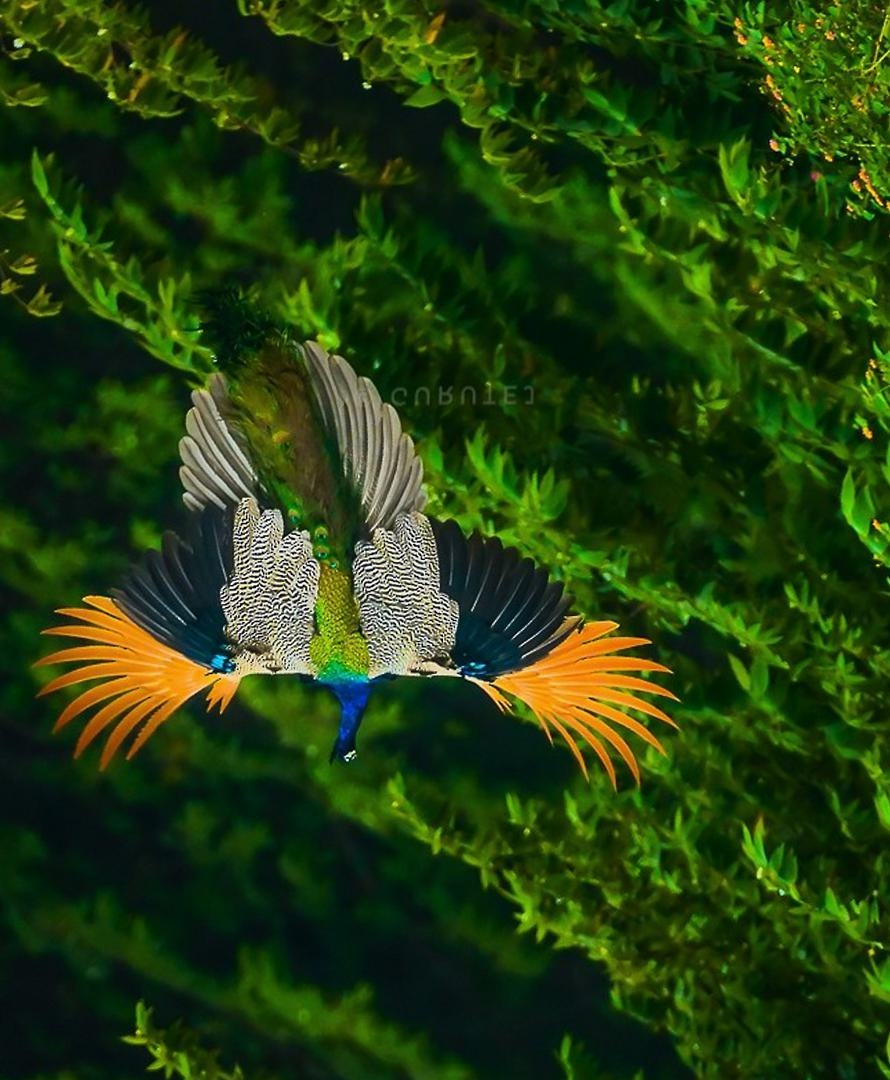peacock: (72, 282, 684, 805)
